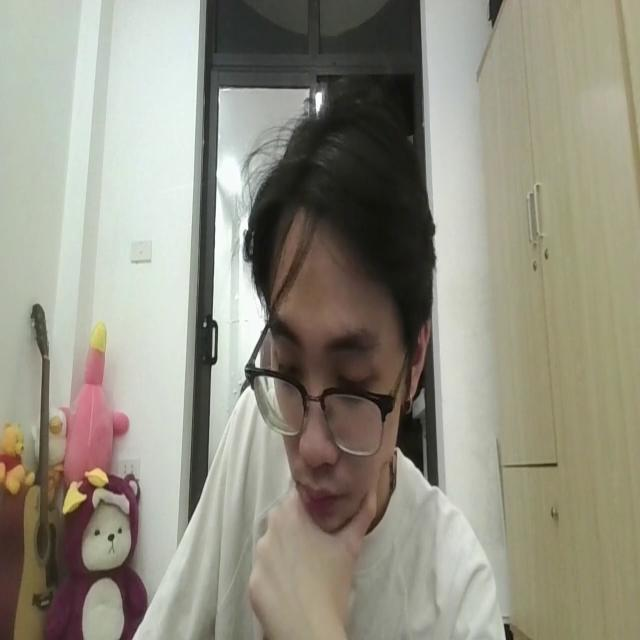student: (116, 73, 504, 640)
